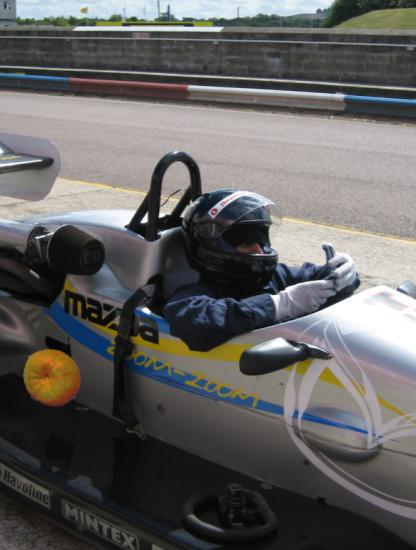Mandarine: (20, 347, 83, 410)
